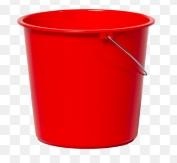SEAU: (16, 0, 158, 154)
